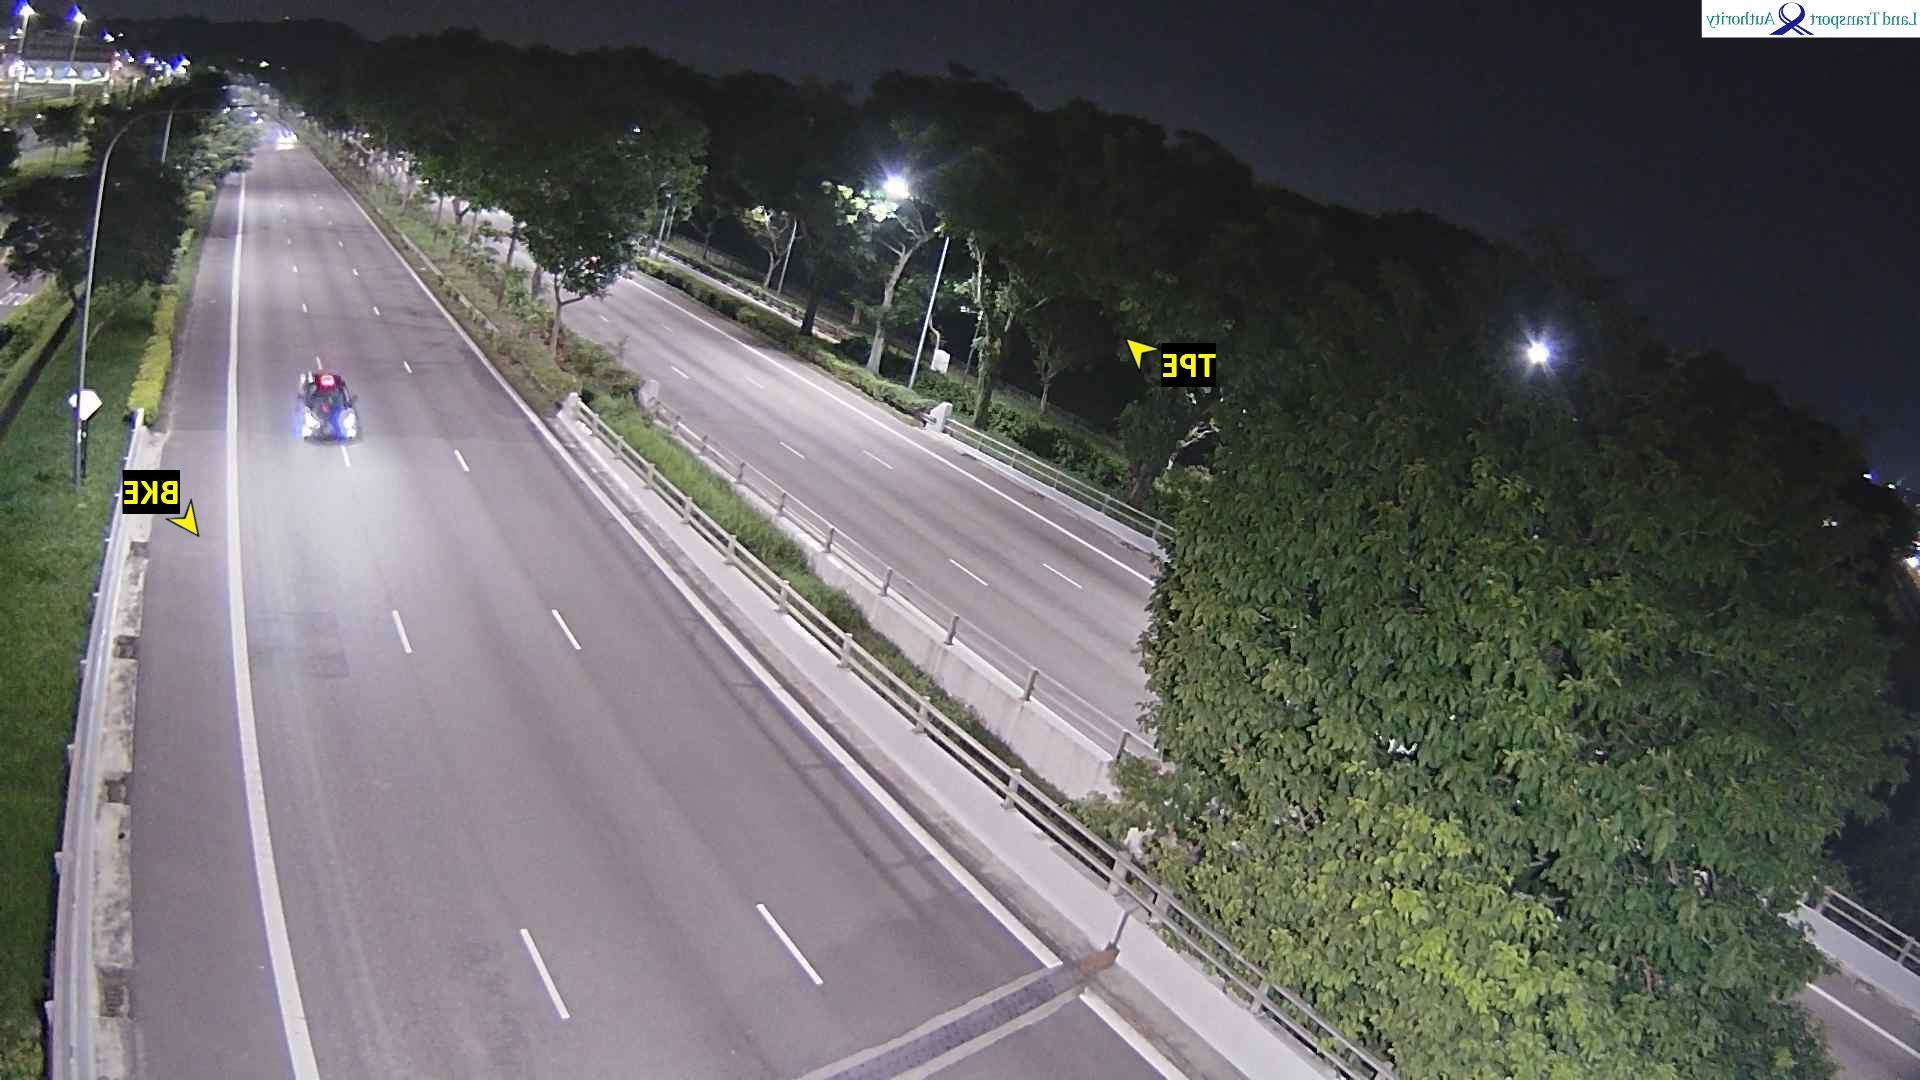cars: (297, 368, 361, 442), (276, 128, 299, 150), (232, 152, 254, 171), (247, 109, 265, 124)
